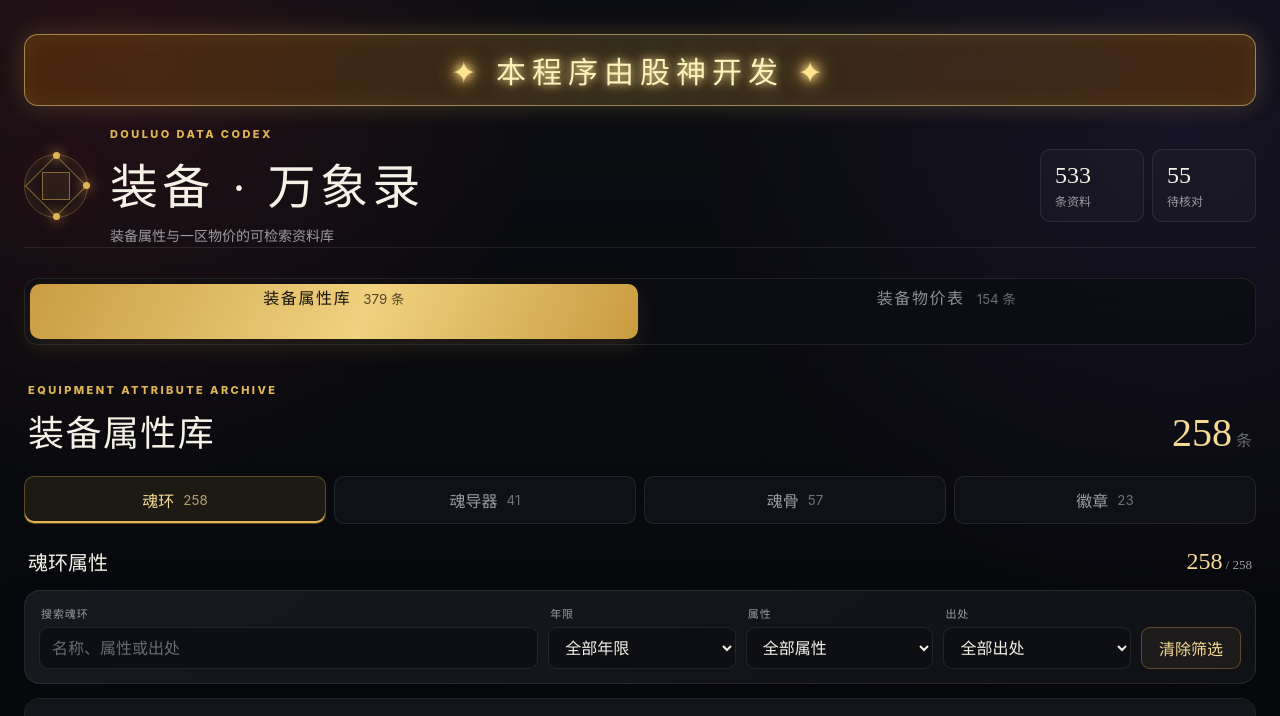
Test: dashboard modules › switches from soul rings to the market module
Expected: the heading "装备属性库" is shown, [28,411,215,455]
Click the button "装备物价表 154 条".
click(921, 298)  # box [642,284,1250,339]
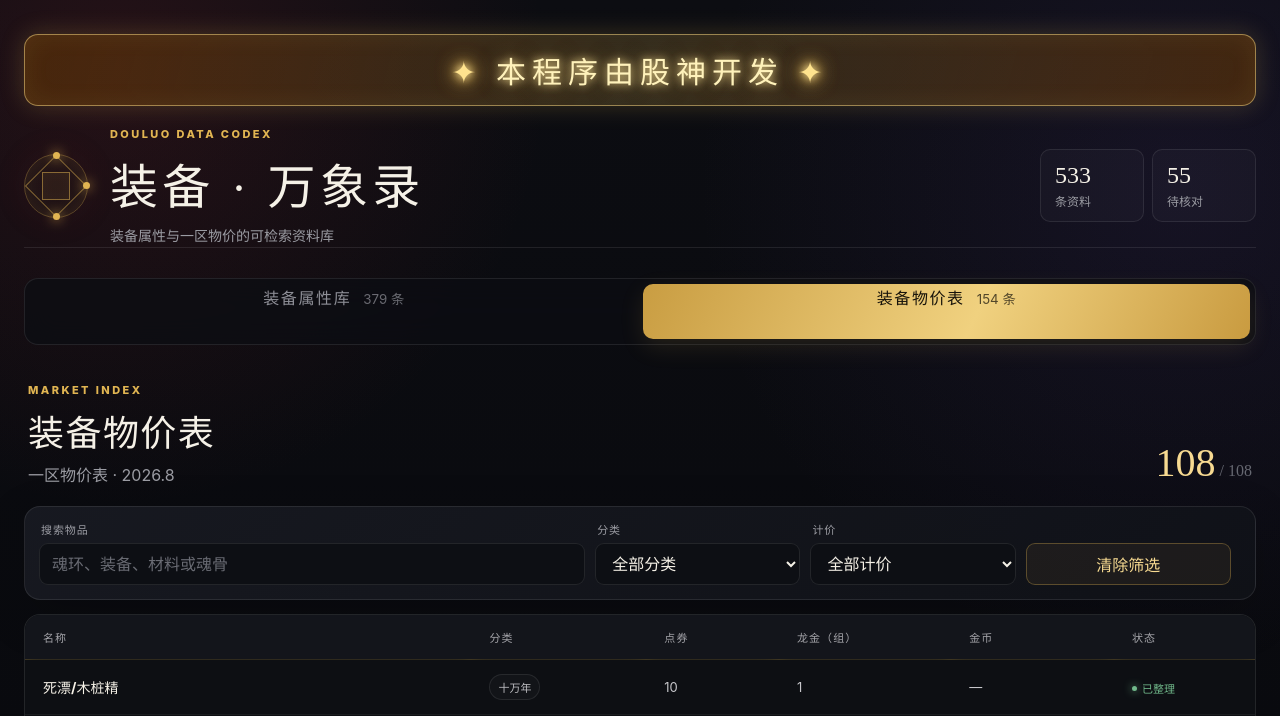
Expected: the heading "装备物价表" is shown, [28,404,215,456]
Expected: the text "一区物价表 · 2026.8" is shown, [28,465,175,485]
